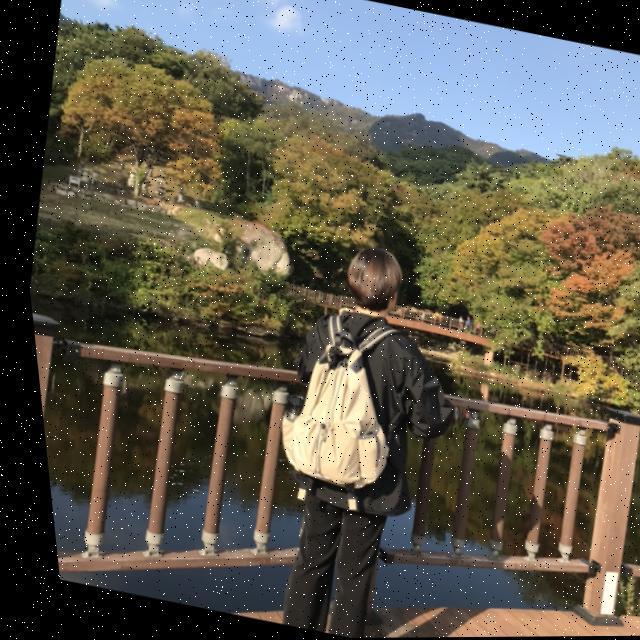backpack: (243, 324, 409, 509)
